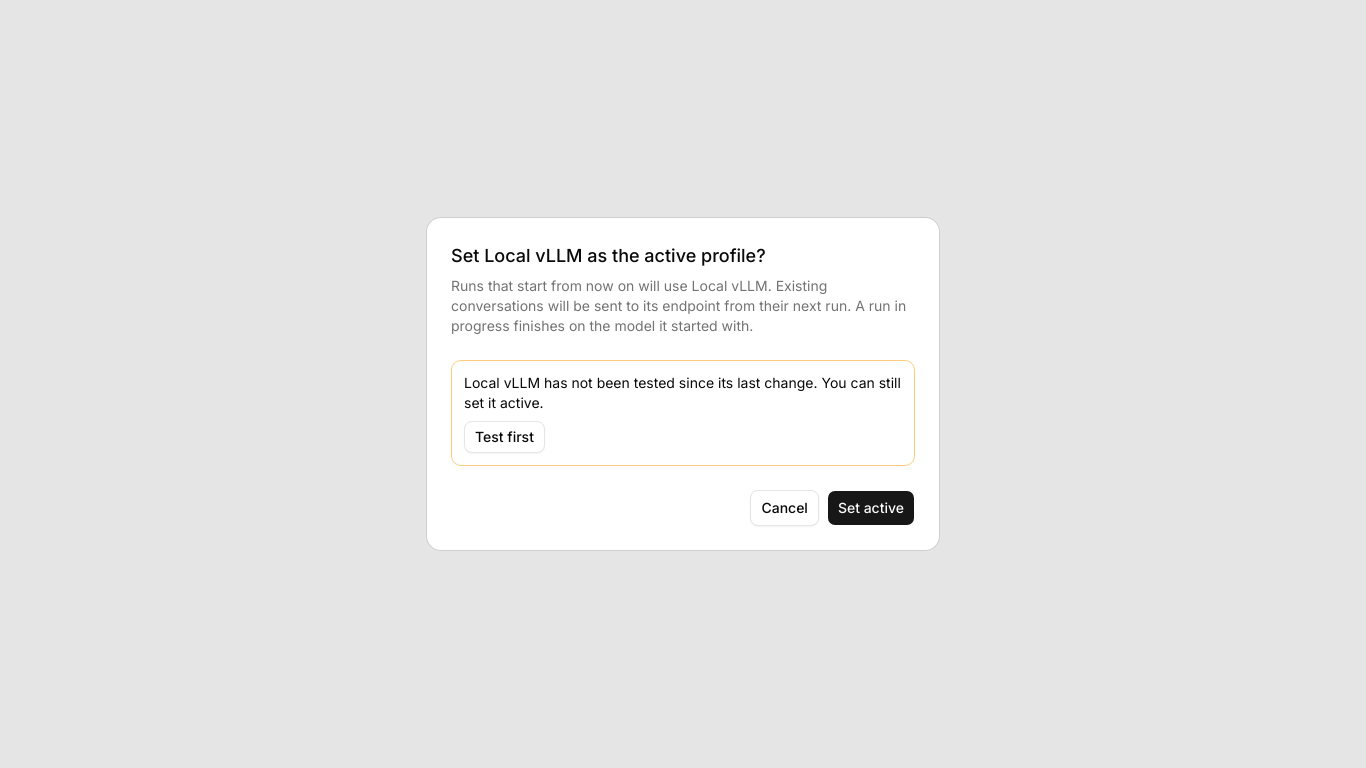
Test case: ActivateDialog › shows a refusal and stays open
The image size is (1366, 768).
Click the button "Set active" at {"x": 871, "y": 508}, box [827,490,915,526]
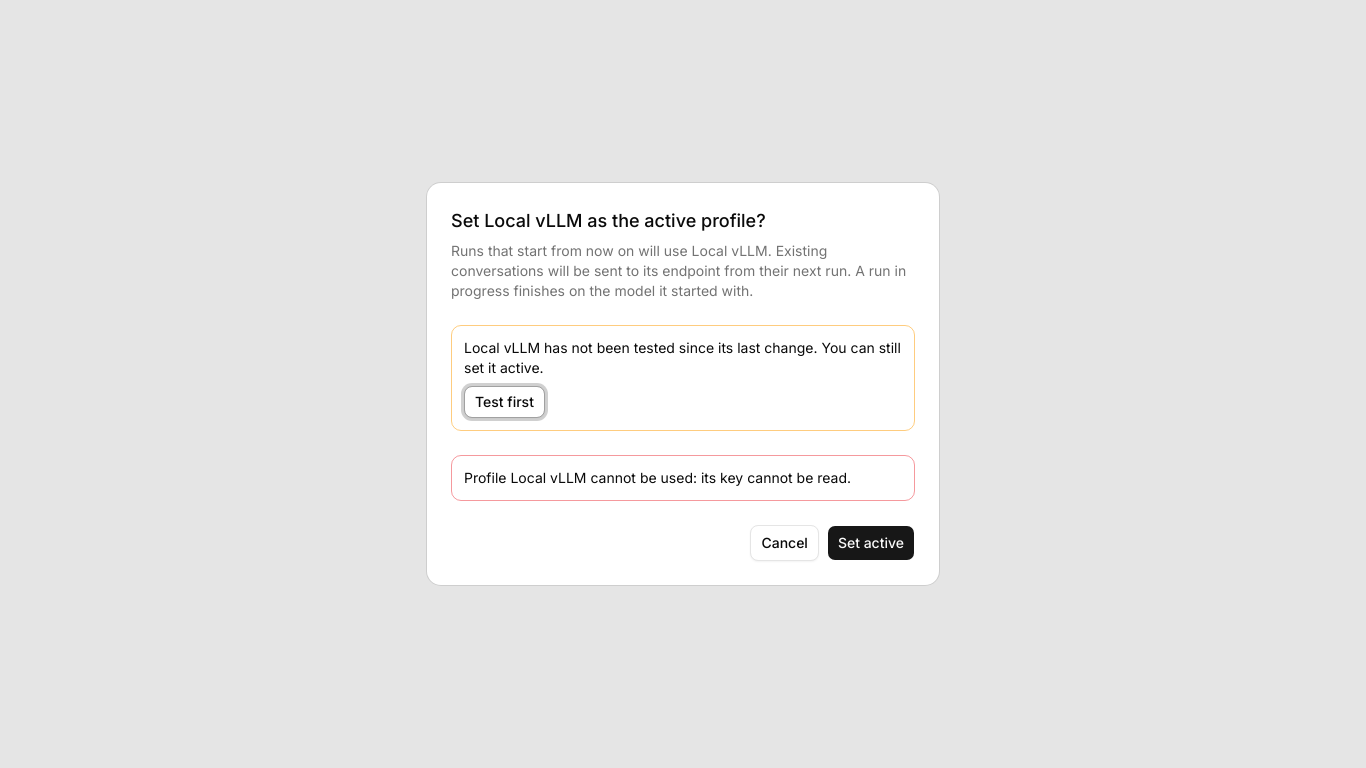
Expected: the dialog is shown, [427,183,939,585]
Now the message shows "cannot be used", box [464,469,851,486]
